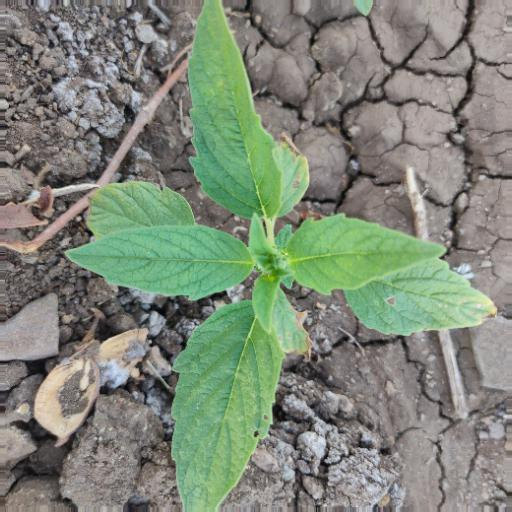crop: (53, 3, 449, 511)
